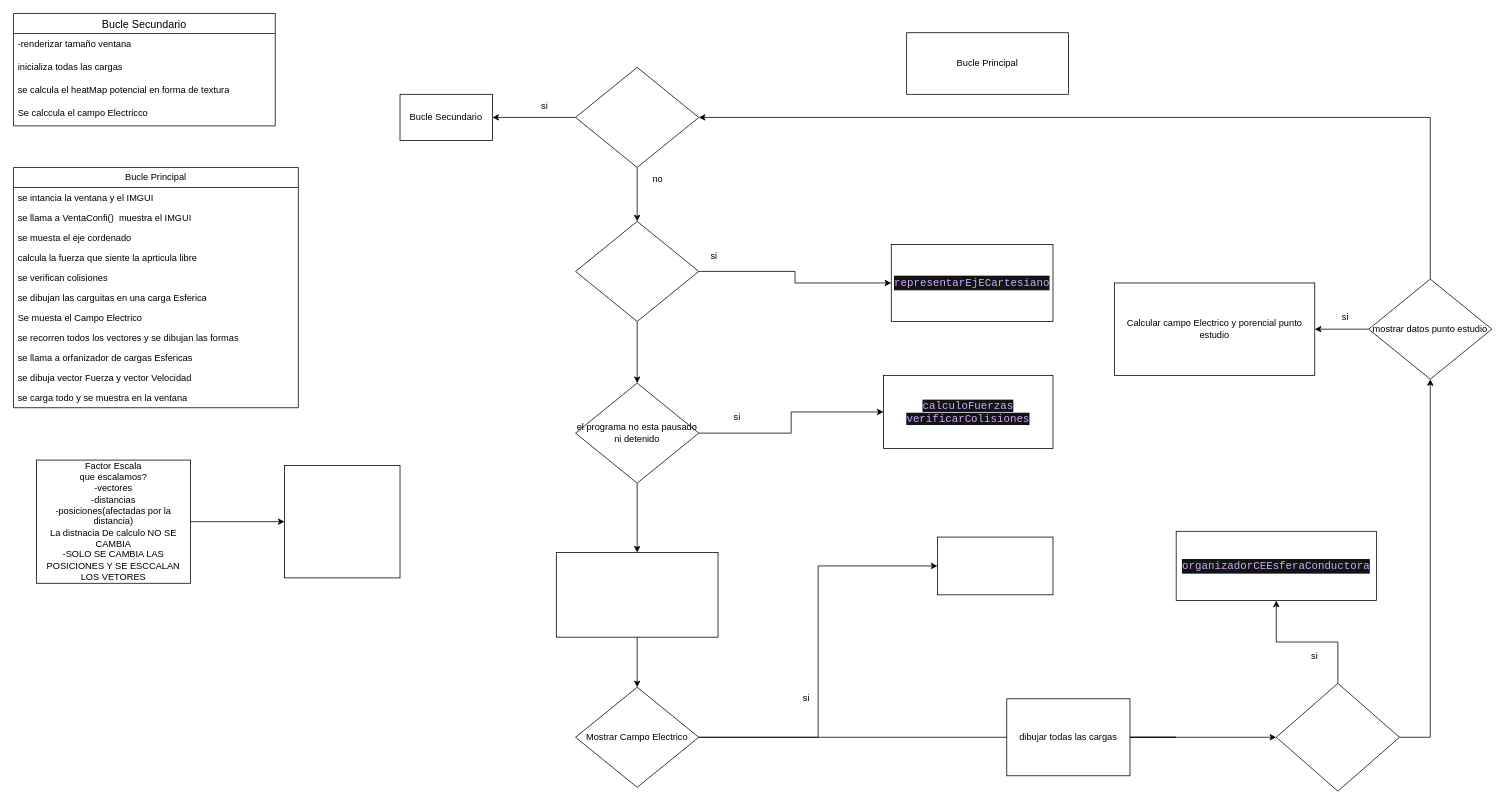
The diagram is 1505 pixels wide and 805 high, and some of its shapes have lost their labels. The shapes that lost their labels are listed below. From the top down, each one's centre as x and y in pixels, then its label:
the point at 637,117: Ocurrio un evento en ventana confi?
the point at 637,271: mostrar Eje Cordenado
the point at 342,521: Punto Estudio CargasFijas CargasMoviles Planos Esferas y cargas Ligadas
the point at 995,565: drawVectoresCE
the point at 637,594: dibujarCargasPositivas dibujarCargasNegativas
the point at 1337,737: mostar campo Electrico Esferas
